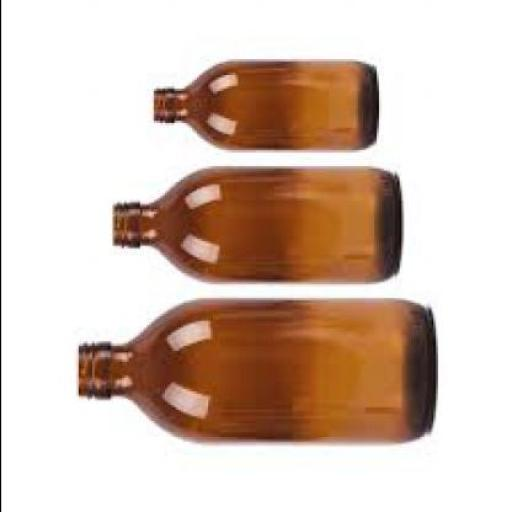glass: (75, 296, 432, 444), (109, 164, 398, 282), (148, 59, 378, 150)
